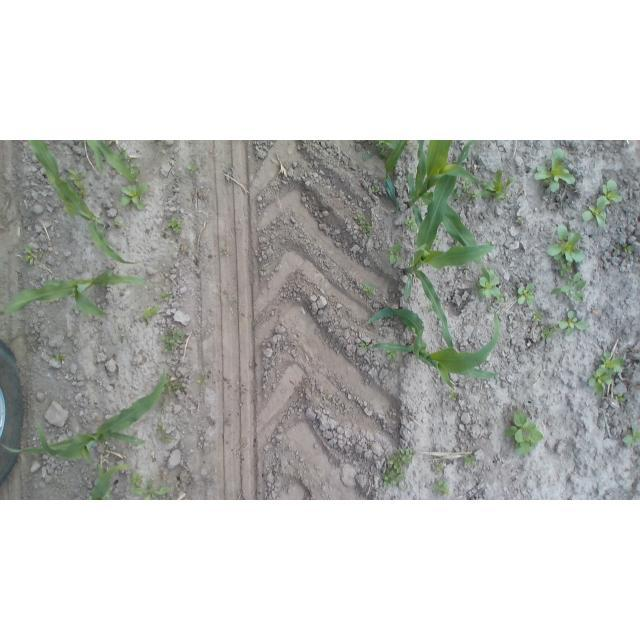Maize: (405, 140, 500, 352), (1, 365, 166, 467), (30, 141, 139, 266), (361, 304, 503, 398), (408, 141, 491, 282), (2, 271, 151, 321), (86, 141, 136, 184), (382, 141, 408, 210), (88, 464, 131, 500)
Weeds: (583, 178, 624, 227), (533, 147, 575, 192), (586, 349, 626, 396), (504, 410, 544, 456), (548, 222, 585, 262), (380, 446, 416, 486), (480, 171, 516, 200), (552, 272, 586, 302), (119, 183, 149, 214), (558, 308, 588, 337), (131, 478, 170, 500), (476, 267, 501, 299), (65, 168, 88, 196), (619, 421, 640, 447), (161, 328, 183, 352), (516, 281, 535, 307), (388, 240, 406, 267), (22, 244, 43, 265), (431, 478, 450, 499), (166, 374, 185, 395), (157, 423, 175, 445), (377, 140, 397, 158), (166, 217, 183, 235), (142, 306, 158, 323), (540, 325, 556, 340), (461, 452, 477, 467), (402, 218, 417, 233), (529, 309, 544, 324), (560, 260, 573, 277), (120, 148, 133, 163), (468, 189, 484, 201), (131, 470, 143, 486), (361, 282, 376, 294), (432, 460, 444, 474), (453, 187, 464, 201), (615, 394, 630, 404), (384, 349, 396, 361), (362, 222, 373, 235), (623, 242, 634, 254), (359, 340, 370, 352), (462, 178, 473, 189), (496, 293, 507, 304), (55, 353, 66, 364), (361, 151, 371, 163), (354, 213, 366, 223), (186, 164, 198, 174), (370, 185, 380, 196), (449, 389, 458, 401), (513, 216, 523, 226), (113, 217, 123, 227), (161, 291, 171, 301), (251, 319, 260, 329), (131, 168, 141, 176), (196, 375, 204, 384), (220, 248, 229, 256), (229, 299, 239, 306), (159, 399, 166, 409), (613, 243, 621, 251), (323, 391, 330, 397), (129, 164, 137, 169)
